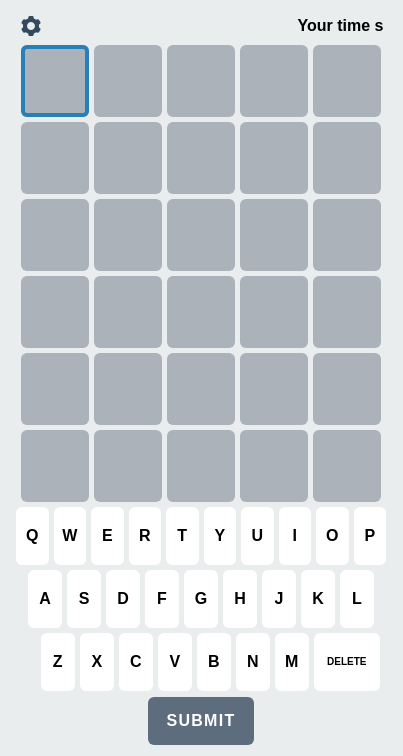
test › Test Random Word
Expected: the element with test id "gameboard-0-0" is shown, [21,44,89,116]
Step 1. Type keys "chirp"
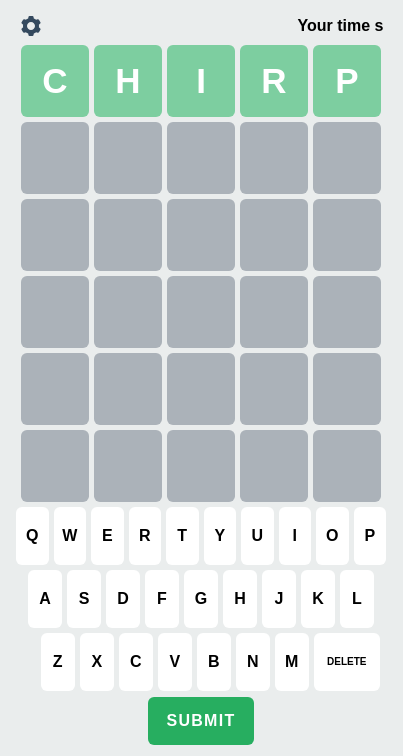
Now the text with test id "gameboard-0-0" reads "c", box [42,60,68,100]
Now the text with test id "gameboard-0-1" reads "h", box [115,60,141,100]
Now the text with test id "gameboard-0-2" reads "i", box [196,60,206,100]
Step 2. Press Enter
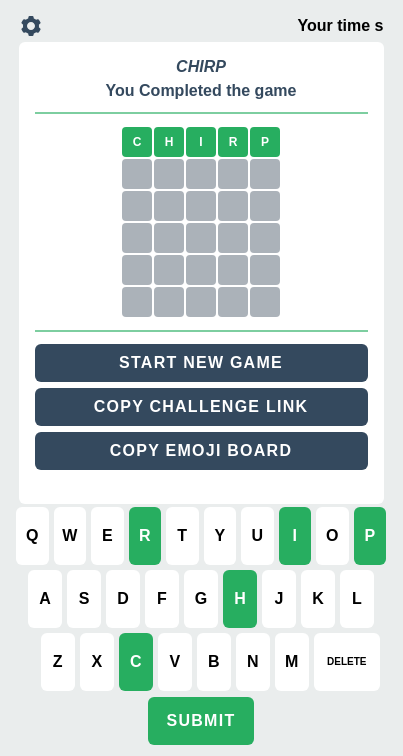
Now the element with test id "mini-modal" is shown, box [18,42,384,504]
Now the text with test id "miniboard-gameboard-0-0" reads "c", box [133,135,141,149]
Now the text with test id "miniboard-gameboard-0-1" reads "h", box [165,135,173,149]
Step 3. Click the button "Start New Game" → (201, 363), box [34,344,368,382]
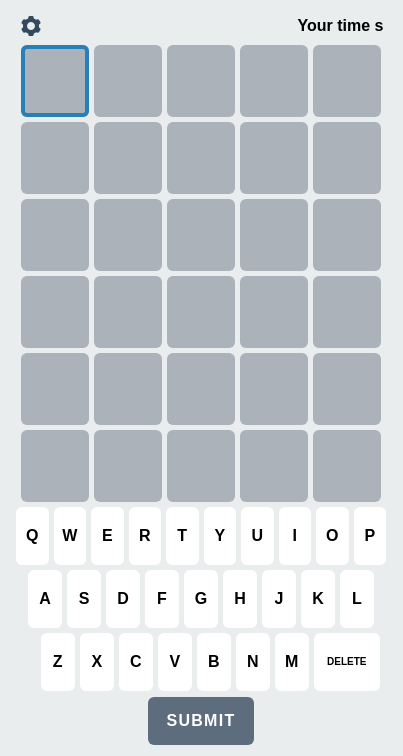
Expected: the element with test id "gameboard-0-0" is shown, [21,44,89,116]
Step 4. Type keys "chirp"
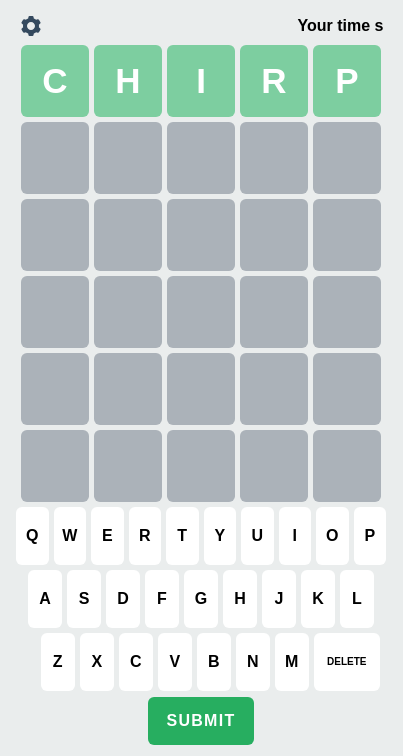
Now the text with test id "gameboard-0-0" reads "c", box [42,60,68,100]
